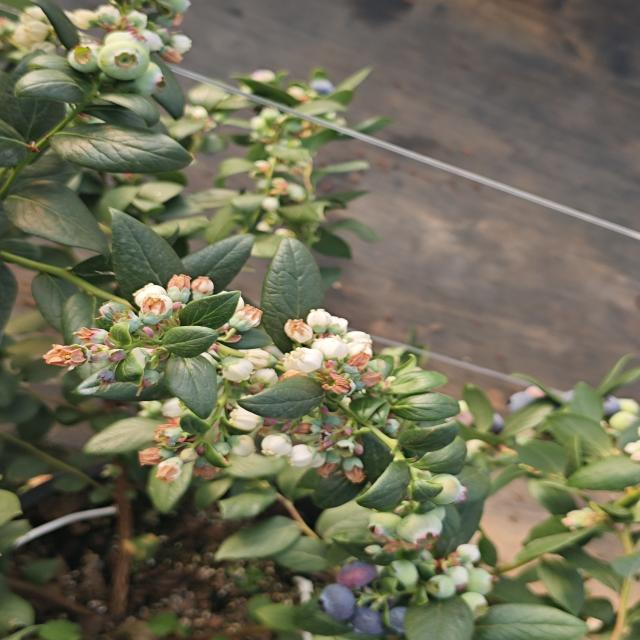ripe: (482, 382, 548, 432), (350, 600, 418, 640), (567, 384, 626, 420), (317, 580, 358, 622)
